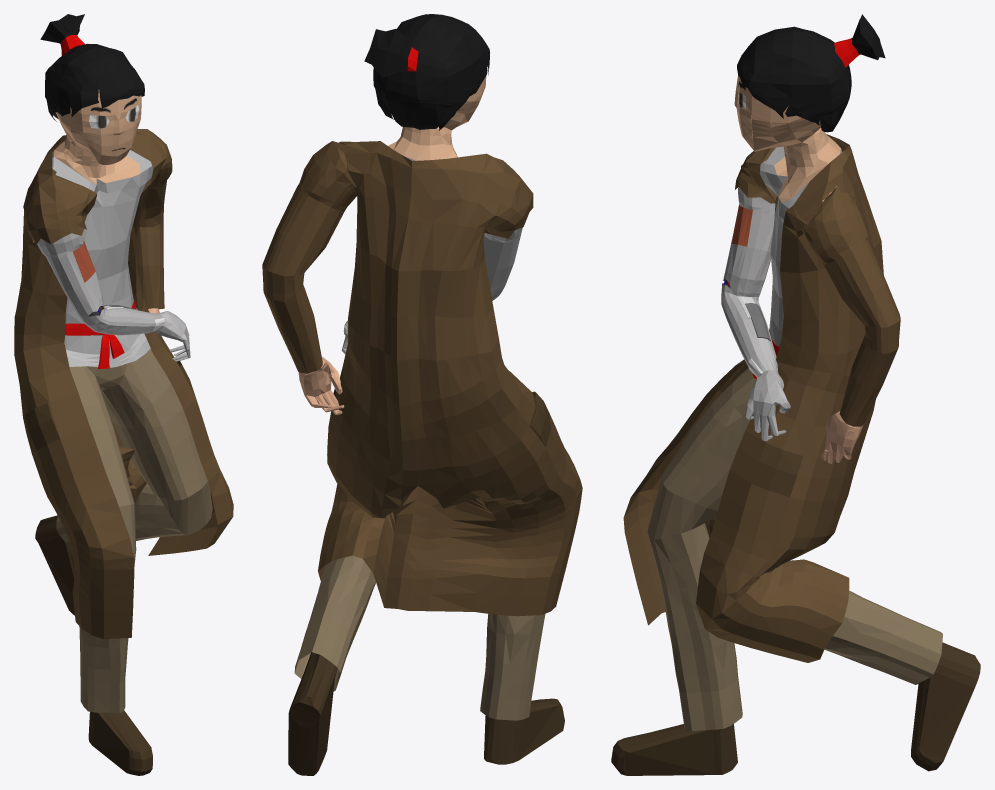
File: One_RB_000019.obj
3 renders of one model, left to right at view 1: azimuth 30°, elevation 25°; view 2: azimuth 150°, elevation 25°; view 3: azimuth 270°, elevation 25°, orthographic. The views are drawn at different scales.
Visible parts, largest first — view 1: Hair_Cube.004; view 2: Hair_Cube.004; view 3: Hair_Cube.004.
Boxes of the visible parts, x1=… form: Hair_Cube.004: x1=14, y1=14, x2=233, y2=775; Hair_Cube.004: x1=262, y1=14, x2=582, y2=775; Hair_Cube.004: x1=611, y1=14, x2=980, y2=775.
Bounding box in the file's own units: 1.09 × 3.75 × 1.63.
